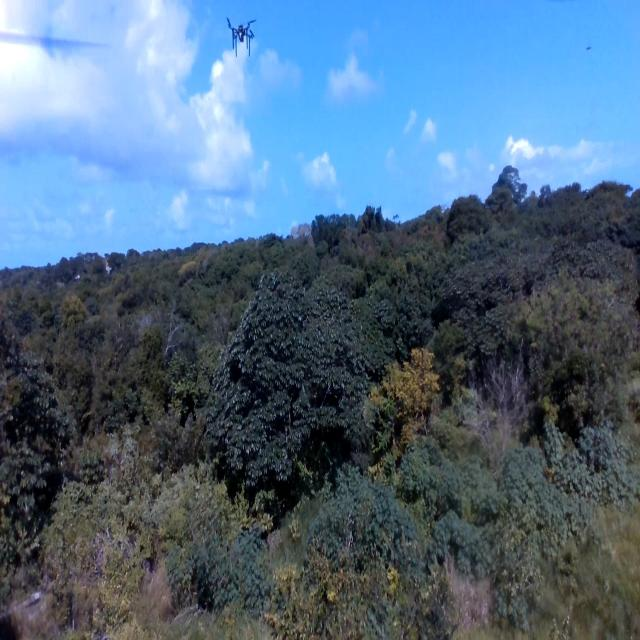-uav-: (222, 10, 262, 64)
